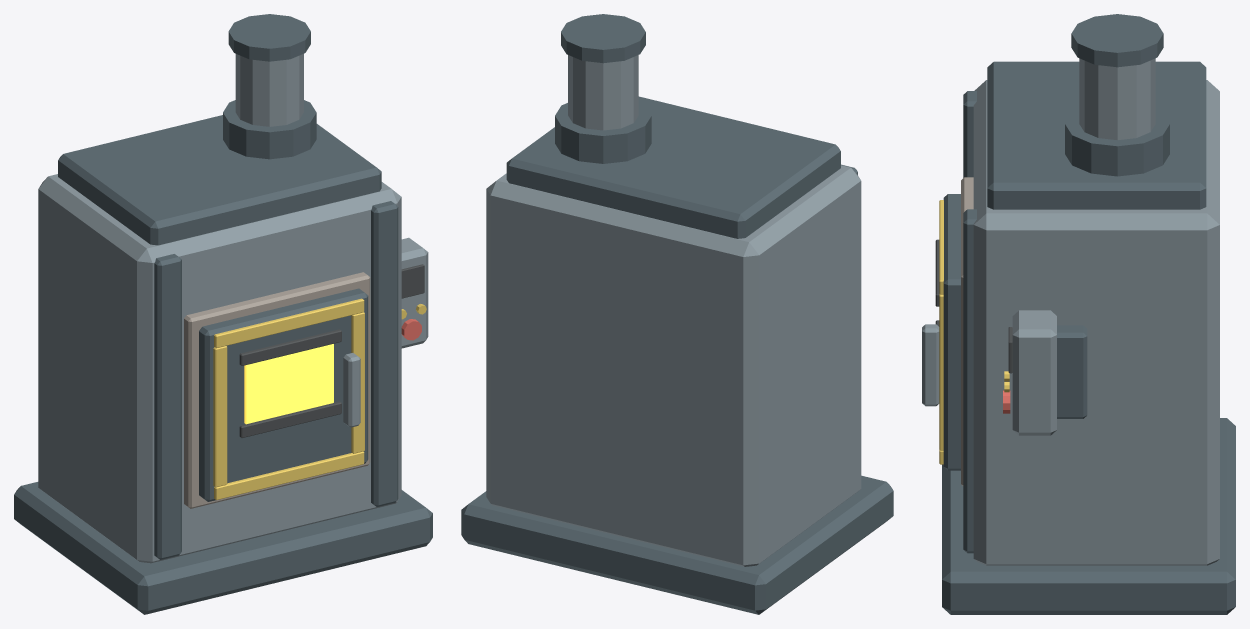
Rendered from FTF_Industrial_Furnace.glb.
3 renders of one model, left to right at view 1: azimuth 30°, elevation 25°; view 2: azimuth 150°, elevation 25°; view 3: azimuth 270°, elevation 25°, orthographic. The views are drawn at different scales.
Visible parts, largest first — view 1: StaticVisual, FurnaceDoor, WorkingGlow; view 2: StaticVisual; view 3: StaticVisual, FurnaceDoor.
Part boxes in pixels (x1,y1,x2,y2): StaticVisual: (14,14,432,614); FurnaceDoor: (199,288,368,501); WorkingGlow: (244,344,333,424); StaticVisual: (461,14,893,614); StaticVisual: (935,14,1235,614); FurnaceDoor: (922,194,960,470).
Size of the model in its own units: 2.61 by 3.73 by 1.98.
